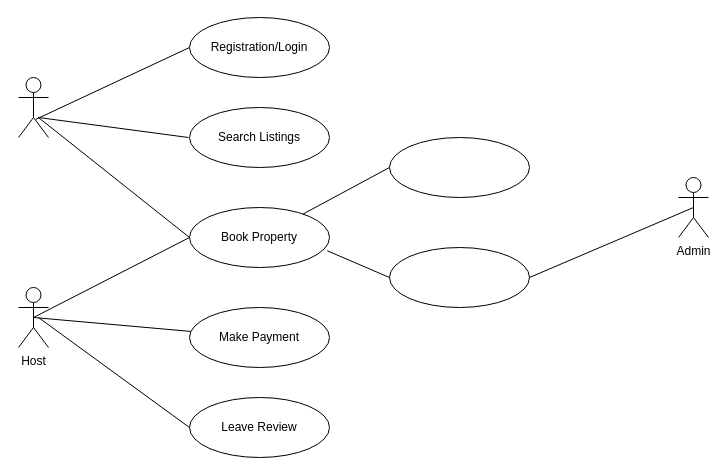
This 728x475 diagram has some shape labels left out. The centre of each missing label's shape, as x and y in pixels:
Guest: [33,107]
Manage Listings: [459,167]
Respond to Reviews: [459,277]
